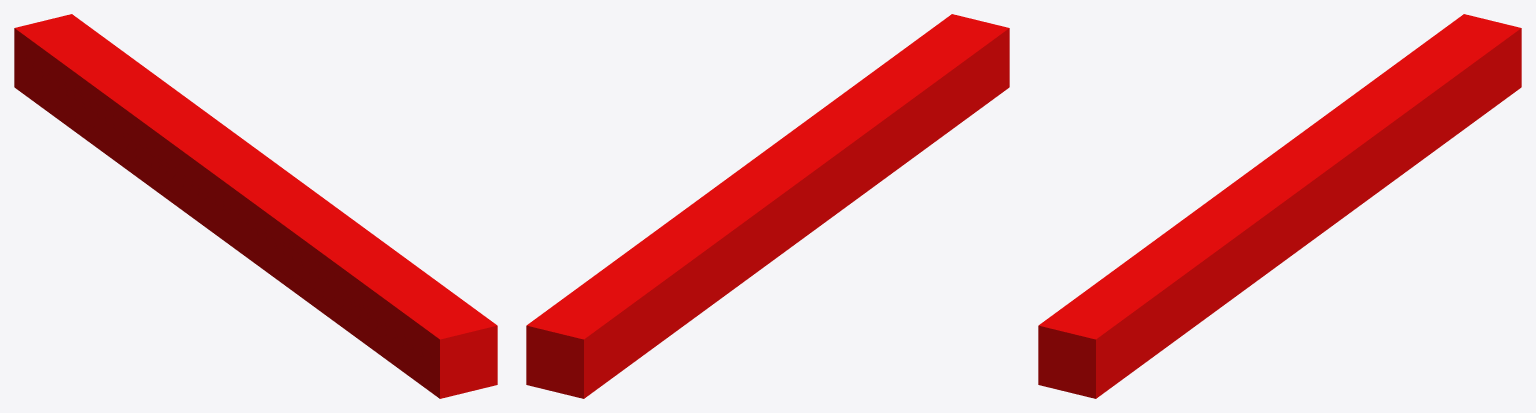
Rendered from l_fibula_col.dae.
The picture shows the model from 3 angles, left to right: view 1: azimuth 30°, elevation 25°; view 2: azimuth 150°, elevation 25°; view 3: azimuth 330°, elevation 25°; orthographic projection.
Parts seen in each view (by area): view 1: node0; view 2: node0; view 3: node0.
Part boxes in pixels (x1=…): node0: x1=14, y1=14, x2=497, y2=398; node0: x1=526, y1=14, x2=1009, y2=398; node0: x1=1038, y1=14, x2=1521, y2=398.
Bounding box in the file's own units: 0.0293 × 0.0289 × 0.3752.
